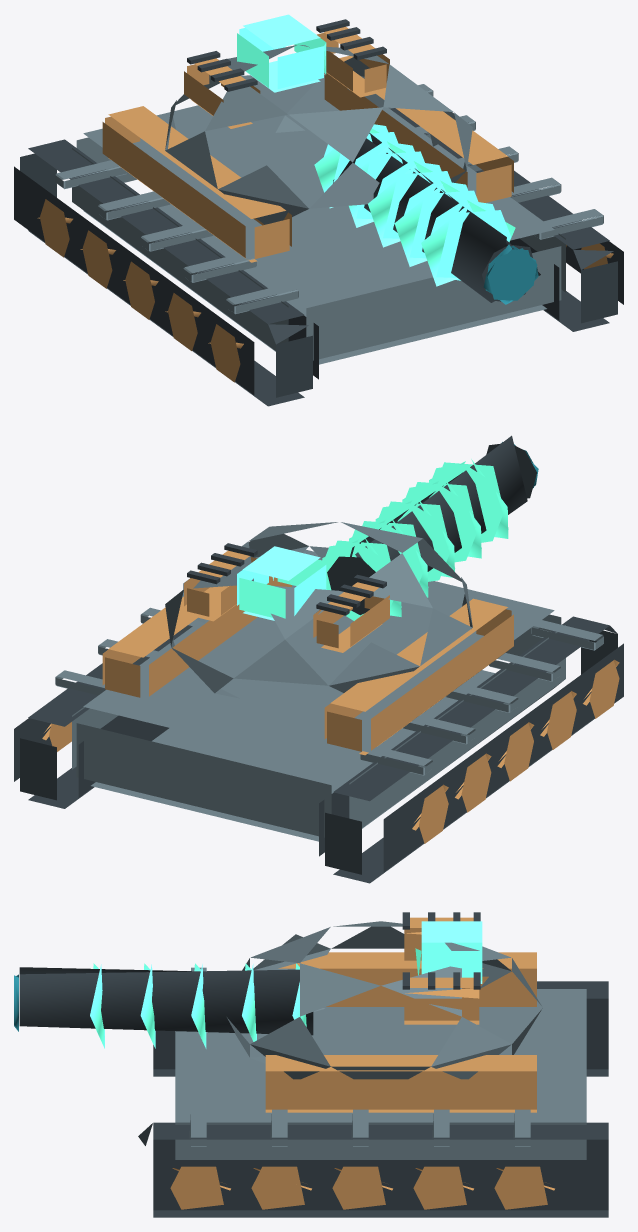
Rendered from boss-laser.glb.
3 renders of one model, top to bottom at view 1: azimuth 30°, elevation 25°; view 2: azimuth 150°, elevation 25°; view 3: azimuth 270°, elevation 25°, orthographic. The views are drawn at different scales.
Parts seen in each view (by area): view 1: Lower chassis, Track housing, Laser turret, Battery enclosure, Track housing.001, Battery enclosure.001, Core, Laser emitter, Cooling coil.004, Cooling coil.003, Cooling coil.002, Focusing lens (+16 smaller); view 2: Lower chassis, Track housing, Laser turret, Battery enclosure, Track housing.001, Battery enclosure.001, Laser emitter, Core, Capacitor, Cooling coil.004, Cooling coil.003, Cooling coil.002 (+14 smaller); view 3: Lower chassis, Track housing.001, Laser emitter, Battery enclosure.001, Laser turret, Battery enclosure, Track housing, Core, Capacitor.001, Road wheel.007, Road wheel.005, Road wheel.006 (+12 smaller).
Boxes of the visible parts, box(x1,y1,x2,y2) form: Lower chassis: box(72, 74, 565, 364); Track housing: box(14, 139, 318, 406); Laser turret: box(165, 45, 472, 224); Battery enclosure: box(102, 106, 291, 262); Track housing.001: box(390, 108, 623, 331); Battery enclosure.001: box(324, 55, 513, 202); Core: box(237, 14, 326, 92); Laser emitter: box(333, 133, 540, 302); Cooling coil.004: box(421, 200, 515, 286); Cooling coil.003: box(394, 180, 478, 266); Cooling coil.002: box(368, 161, 451, 247); Focusing lens: box(483, 244, 538, 304); Lower chassis: box(72, 549, 565, 841); Track housing: box(319, 616, 623, 883); Laser turret: box(165, 522, 472, 698); Battery enclosure: box(324, 598, 513, 755); Track housing.001: box(14, 625, 192, 808); Battery enclosure.001: box(102, 576, 291, 697); Laser emitter: box(327, 435, 536, 615); Core: box(237, 546, 326, 620); Capacitor: box(313, 582, 389, 652); Cooling coil.004: box(429, 459, 508, 542); Cooling coil.003: box(402, 479, 481, 562); Cooling coil.002: box(375, 498, 455, 581); Lower chassis: box(175, 989, 586, 1159); Track housing.001: box(138, 1122, 608, 1217); Laser emitter: box(19, 967, 313, 1035); Battery enclosure.001: box(265, 1055, 536, 1112); Laser turret: box(227, 921, 542, 1079); Battery enclosure: box(278, 952, 536, 1006); Track housing: box(153, 981, 608, 1076); Core: box(415, 921, 482, 983); Capacitor.001: box(404, 977, 479, 1024); Road wheel.007: box(332, 1166, 392, 1209); Road wheel.005: box(170, 1166, 230, 1209); Road wheel.006: box(251, 1166, 311, 1209).
Size of the model in its own units: 4.1 by 2.25 by 6.03.
